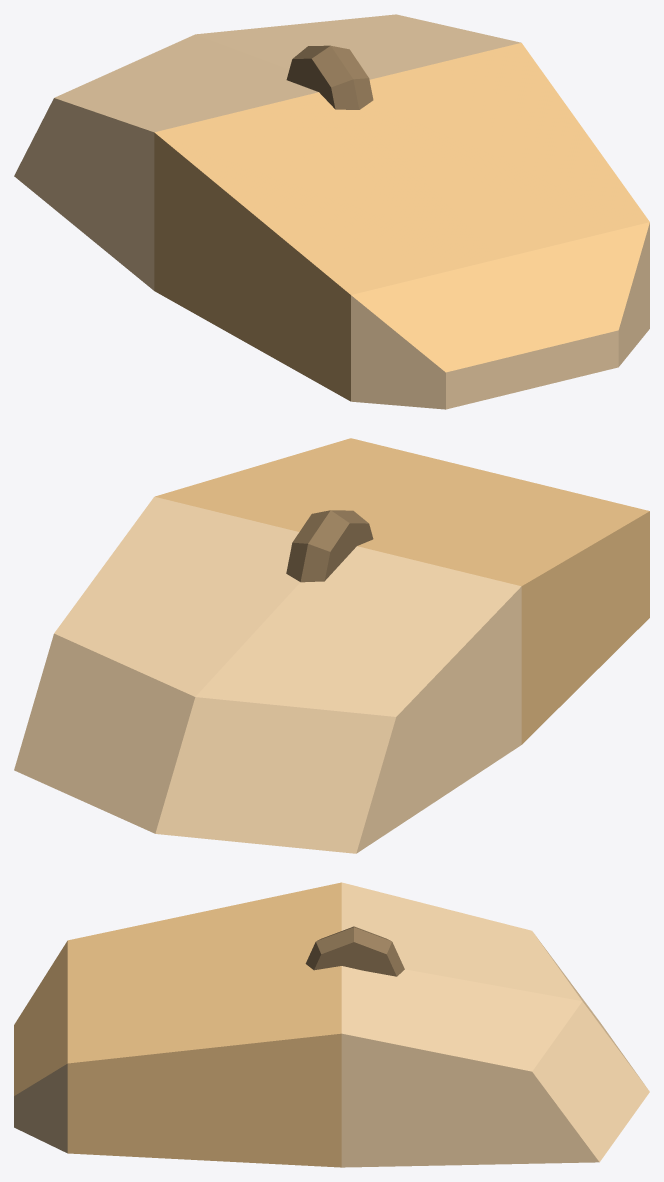
File: Computer_old_mouse.fbx
The picture shows the model from 3 angles, top to bottom: view 1: azimuth 30°, elevation 25°; view 2: azimuth 150°, elevation 25°; view 3: azimuth 270°, elevation 25°; orthographic projection. The views are drawn at different scales.
Visible parts, largest first — view 1: Computer_old_mouse; view 2: Computer_old_mouse; view 3: Computer_old_mouse.
Boxes of the visible parts, bbox=[...] form: Computer_old_mouse: bbox=[14, 14, 649, 409]; Computer_old_mouse: bbox=[14, 438, 649, 853]; Computer_old_mouse: bbox=[14, 882, 649, 1167].
Size of the model in its own units: 8.26 by 4.2 by 14.69.
